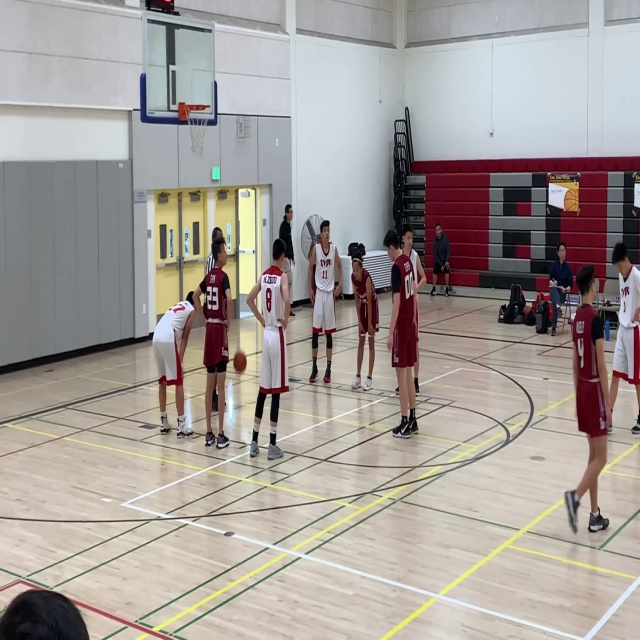Basketball: (233, 351, 246, 372)
